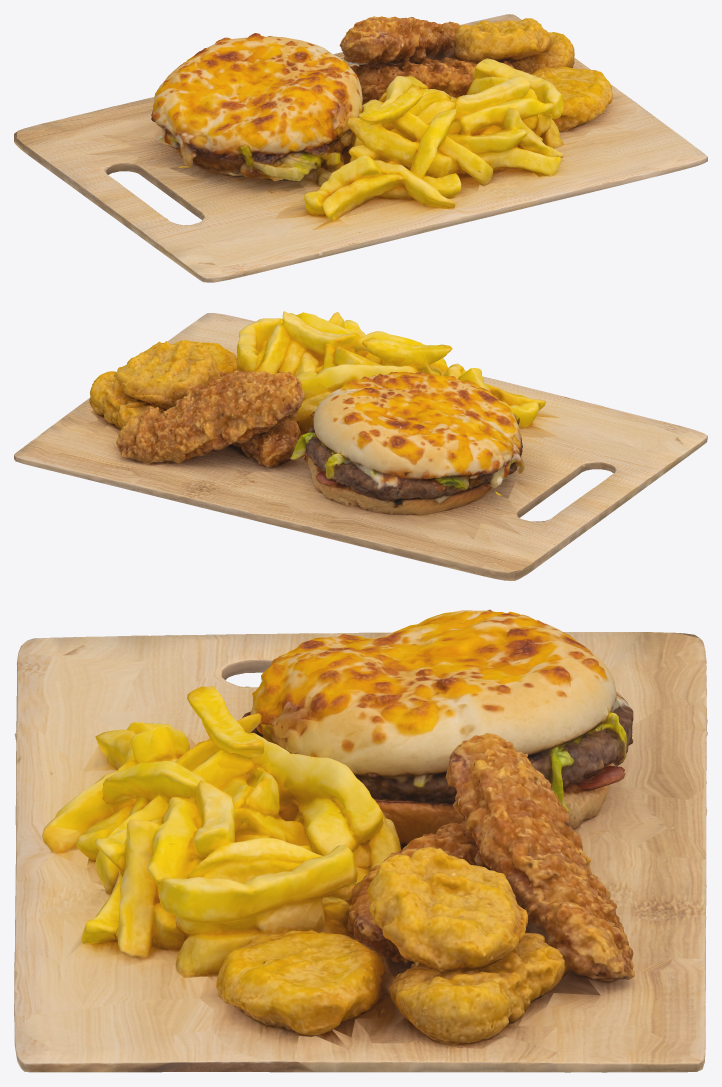
The model's file is Sandwich.glb.
3 renders of one model, top to bottom at view 1: azimuth 30°, elevation 25°; view 2: azimuth 150°, elevation 25°; view 3: azimuth 270°, elevation 25°, orthographic. The views are drawn at different scales.
Visible parts, largest first — view 1: Cheezious Sandwich; view 2: Cheezious Sandwich; view 3: Cheezious Sandwich.
Part boxes in pixels (bbox=[...]): Cheezious Sandwich: bbox=[14, 14, 707, 282]; Cheezious Sandwich: bbox=[14, 311, 707, 580]; Cheezious Sandwich: bbox=[14, 609, 707, 1072].
Bounding box in the file's own units: 0.3799 × 0.0665 × 0.2613.
Materials: 1 (1 with a texture image).
